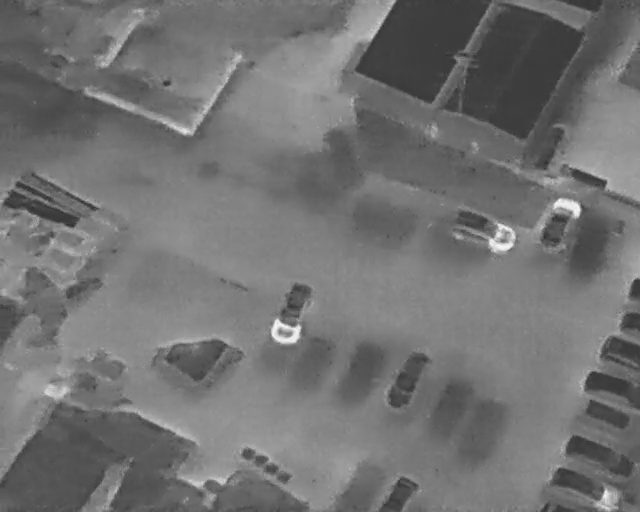Car: (447, 205, 520, 257), (267, 277, 318, 349), (546, 466, 624, 512), (534, 190, 587, 257), (383, 344, 433, 413), (565, 434, 636, 480), (583, 370, 640, 407), (600, 333, 640, 370), (379, 477, 420, 511), (619, 309, 640, 335), (626, 277, 640, 305)
